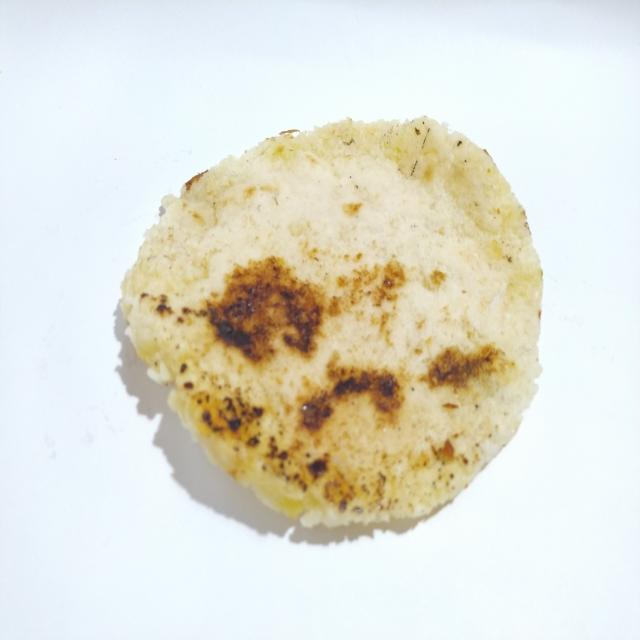Food: (112, 109, 552, 552)
